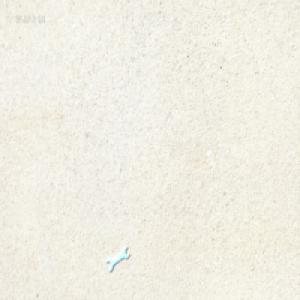Wrench: (106, 243, 129, 272)
